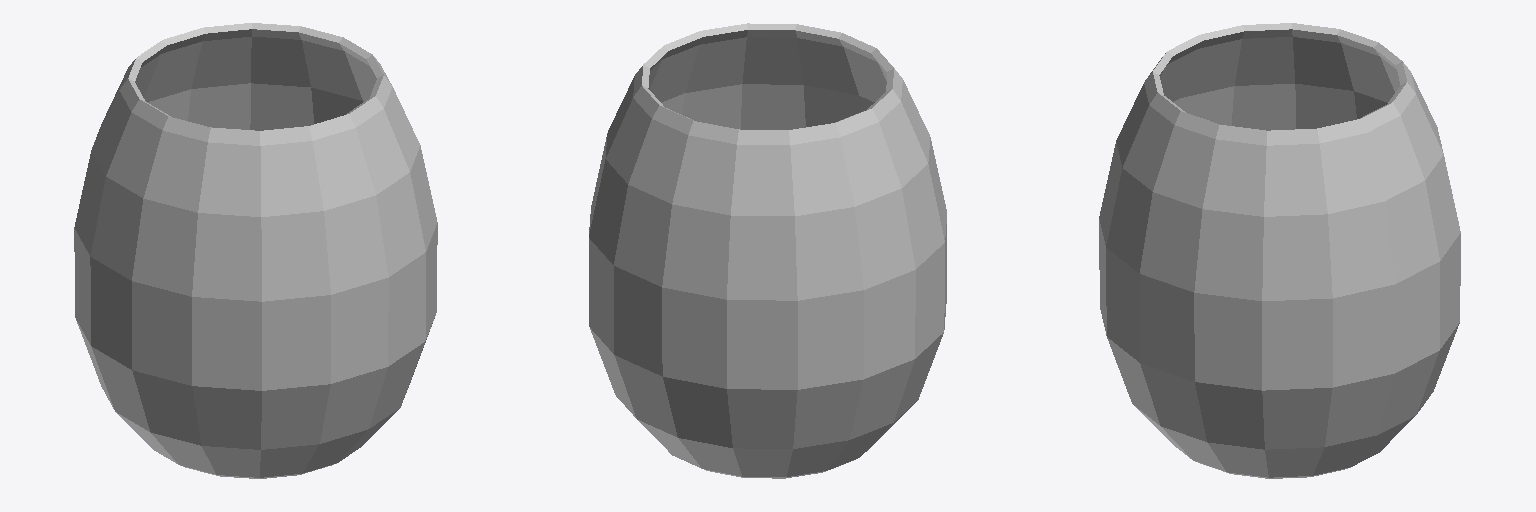
The model's file is glass_1.obj.
The picture shows the model from 3 angles: view 1: azimuth 30°, elevation 25°; view 2: azimuth 150°, elevation 25°; view 3: azimuth 270°, elevation 25°; orthographic projection.
Parts seen in each view (by area): view 1: glass_1; view 2: glass_1; view 3: glass_1.
Boxes of the visible parts, box(x1,y1,x2,y2) form: glass_1: box(74, 23, 437, 478); glass_1: box(589, 23, 946, 478); glass_1: box(1099, 23, 1460, 478).
Size of the model in its own units: 8.22 by 8.99 by 8.22.